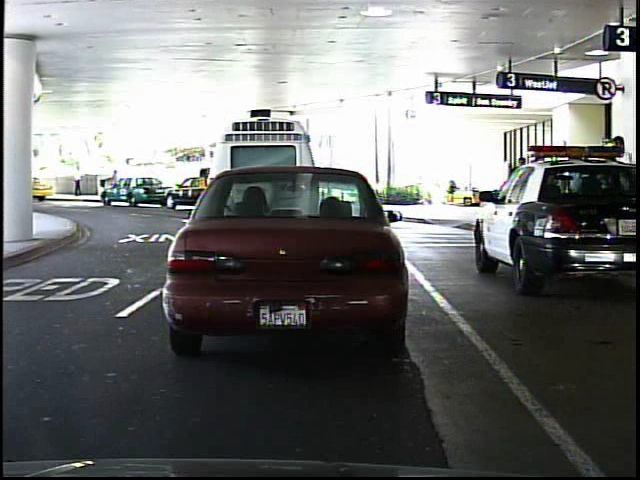person: (603, 132, 637, 251), (505, 151, 532, 218), (106, 166, 124, 202), (72, 162, 86, 198)
